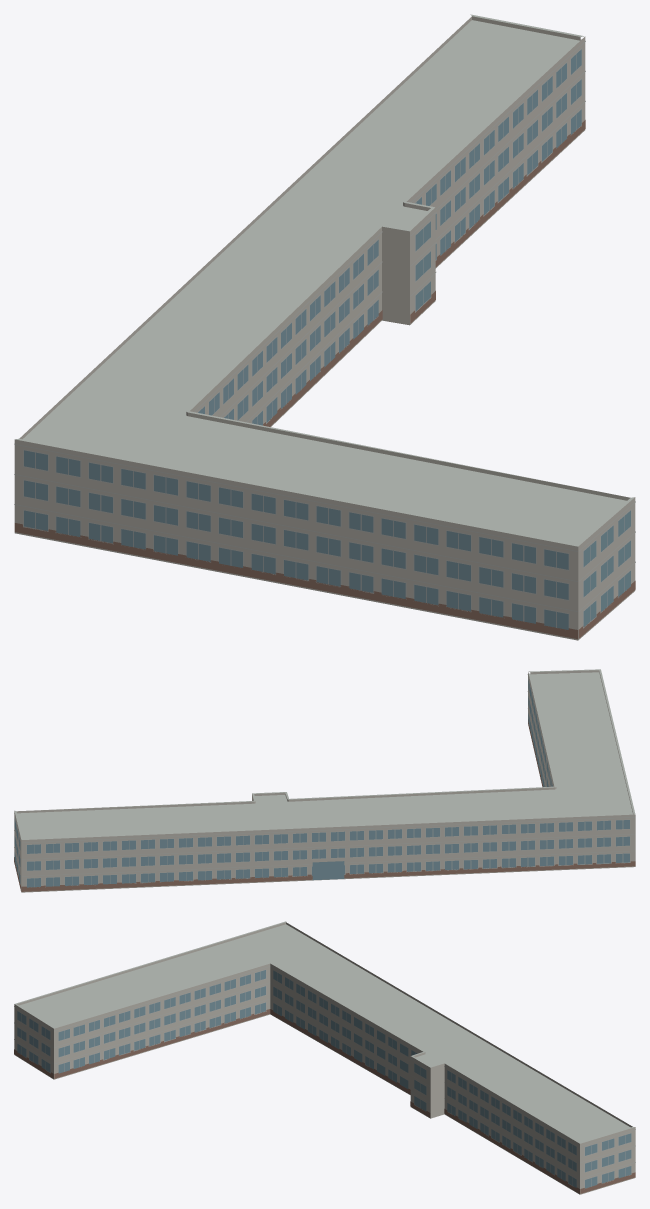
The model's file is public-0ff40a9c-6214-4827-84c8-2b3bacbc4880.glb.
3 views of the same model, one above another, from view 1: azimuth 30°, elevation 25°; view 2: azimuth 150°, elevation 25°; view 3: azimuth 270°, elevation 25° (orthographic). The views are drawn at different scales.
Parts seen in each view (by area): view 1: public-0ff40a9c-6214-4827-84c8-2b3bacbc4880; view 2: public-0ff40a9c-6214-4827-84c8-2b3bacbc4880; view 3: public-0ff40a9c-6214-4827-84c8-2b3bacbc4880.
Boxes of the visible parts, x1,y1,x2,y2 form: public-0ff40a9c-6214-4827-84c8-2b3bacbc4880: [14, 14, 635, 640]; public-0ff40a9c-6214-4827-84c8-2b3bacbc4880: [14, 669, 635, 892]; public-0ff40a9c-6214-4827-84c8-2b3bacbc4880: [14, 921, 635, 1194].
Size of the model in its own units: 85.82 by 9.15 by 101.
